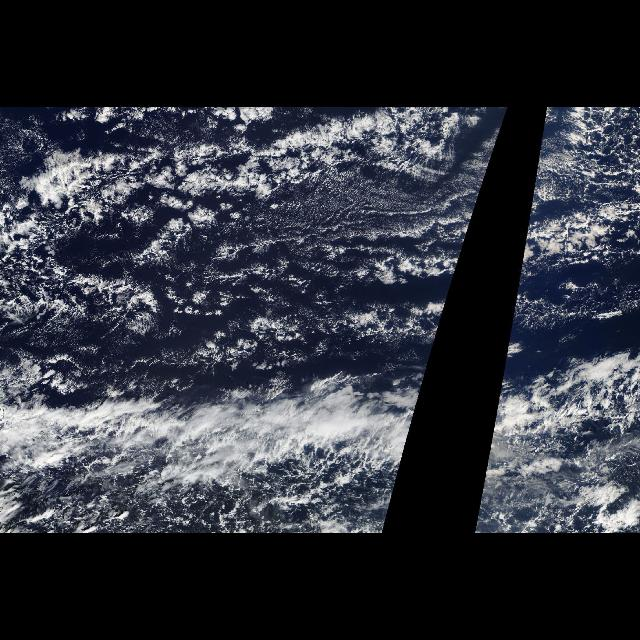Fish: (3, 194, 479, 366), (2, 389, 422, 491), (504, 194, 640, 366), (480, 389, 640, 491)
Gravel: (19, 154, 395, 376), (168, 445, 364, 529), (554, 115, 630, 278)
Sugar: (158, 163, 492, 311)
